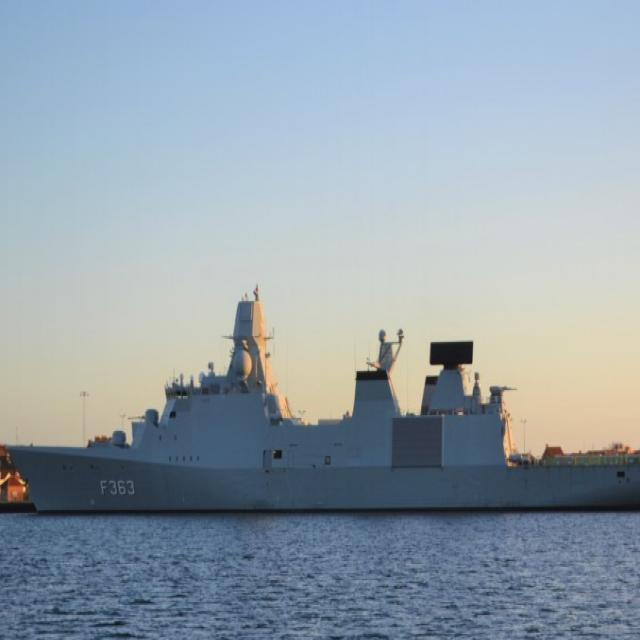Fragata: (4, 271, 640, 523)
